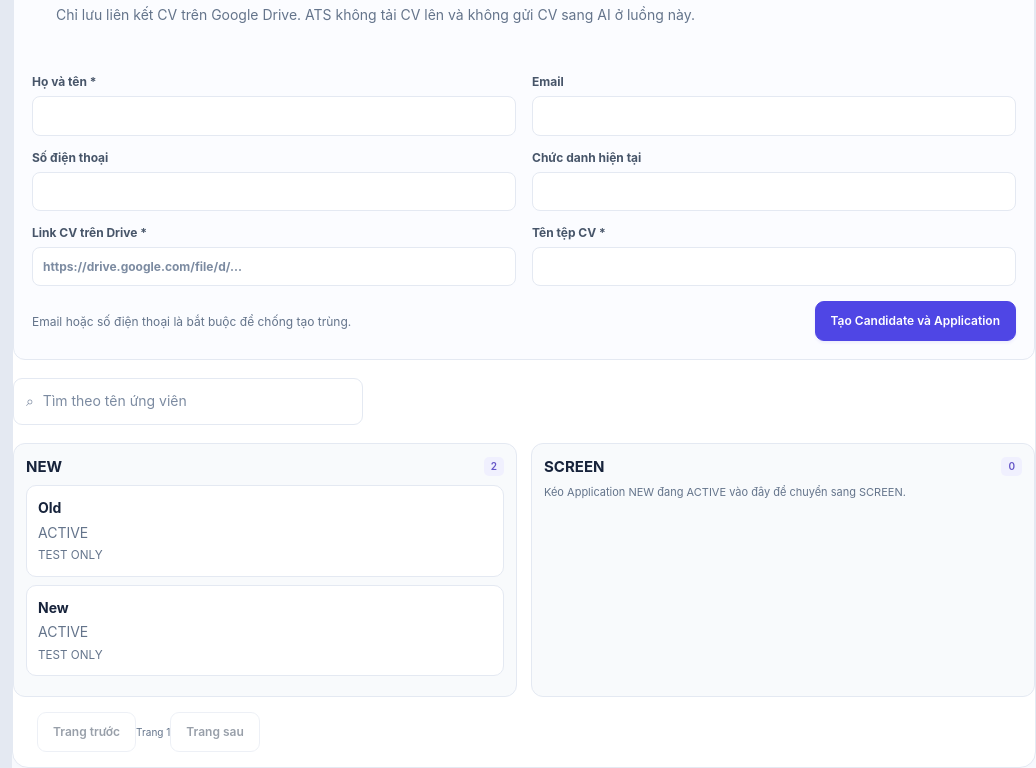
application pipeline › does not let an old detail response replace the latest selection
(page scrolled)
Click the button "Old ACTIVE TEST ONLY" at (63, 532), box [26,485,504,577]
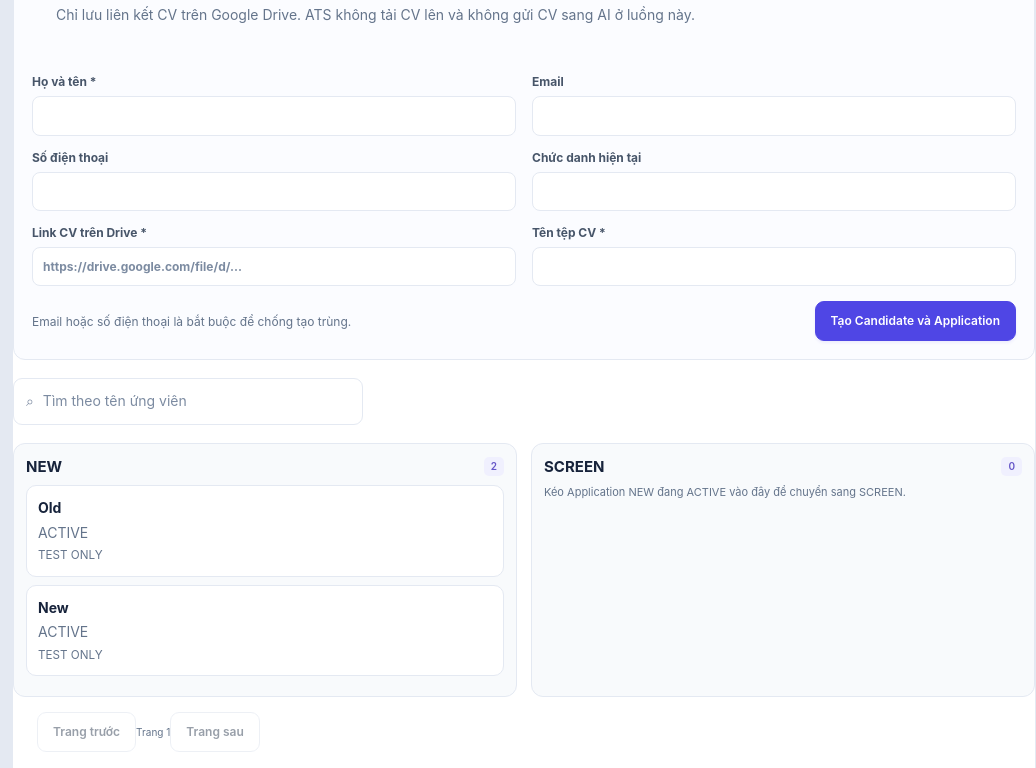
Click the button "New ACTIVE TEST ONLY" at (53, 607), box [26,585,504,676]
(page scrolled)
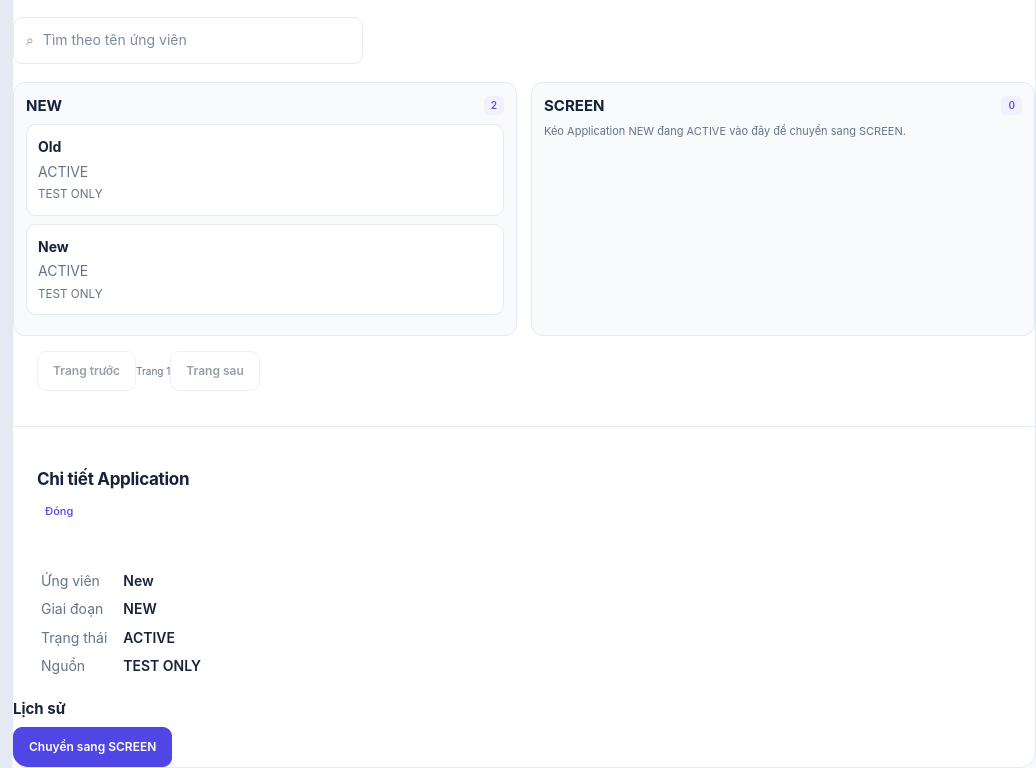
expect the 1st text "New" is shown: met, box [38,238,69,255]
expect the element labelled "Chi tiết Application" shows "New": met, box [123,572,154,589]
